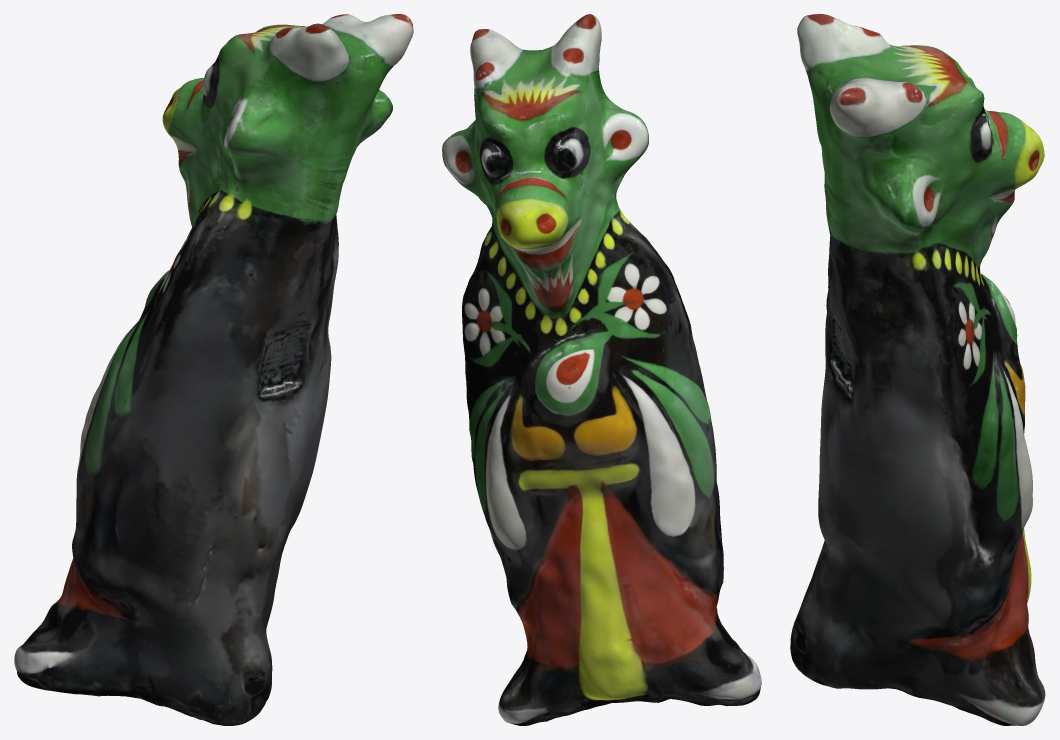
3 views of the same model, side by side, from view 1: azimuth 30°, elevation 25°; view 2: azimuth 150°, elevation 25°; view 3: azimuth 270°, elevation 25° (orthographic). The views are drawn at different scales.
Size of the model in its own units: 0.5106 by 0.9433 by 0.3031.
Materials: 1 (1 with a texture image).
